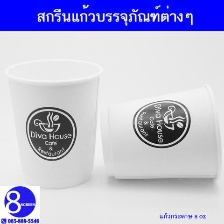paper_cup: (0, 55, 105, 193), (95, 80, 224, 186)
